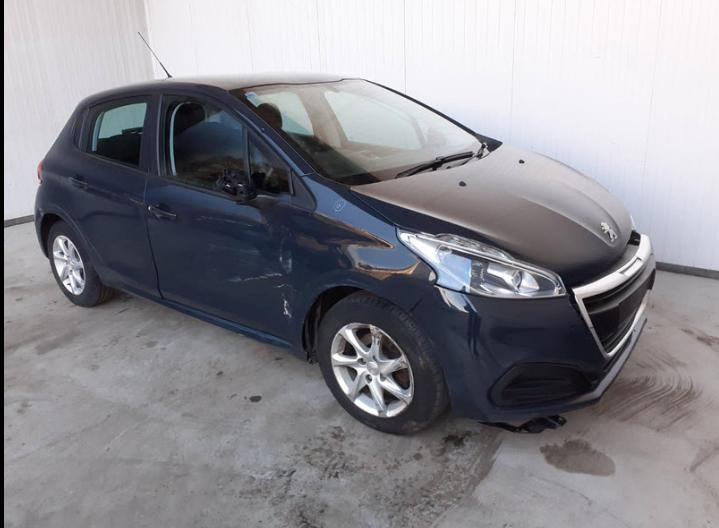Back-door: (59, 89, 162, 298)
Back-wheel: (48, 222, 115, 307)
Back-window: (82, 96, 150, 167), (73, 112, 84, 147)
Fender: (283, 173, 437, 348)
Front-bumper: (408, 284, 646, 422)
Front-door: (142, 89, 318, 339)
Front-wheel: (318, 289, 451, 437)
Front-window: (164, 101, 245, 191), (250, 133, 289, 195)
Grille: (571, 234, 656, 359)
Headlight: (395, 225, 569, 300), (630, 215, 636, 230)
Hood: (349, 143, 633, 286)
Mirror: (214, 169, 292, 209)
Quarter-panel: (34, 134, 122, 285)
Rocker-panel: (105, 283, 308, 362)
Roof: (77, 72, 366, 107)
Tail-light: (37, 160, 44, 184)
Windshield: (228, 78, 490, 186)
